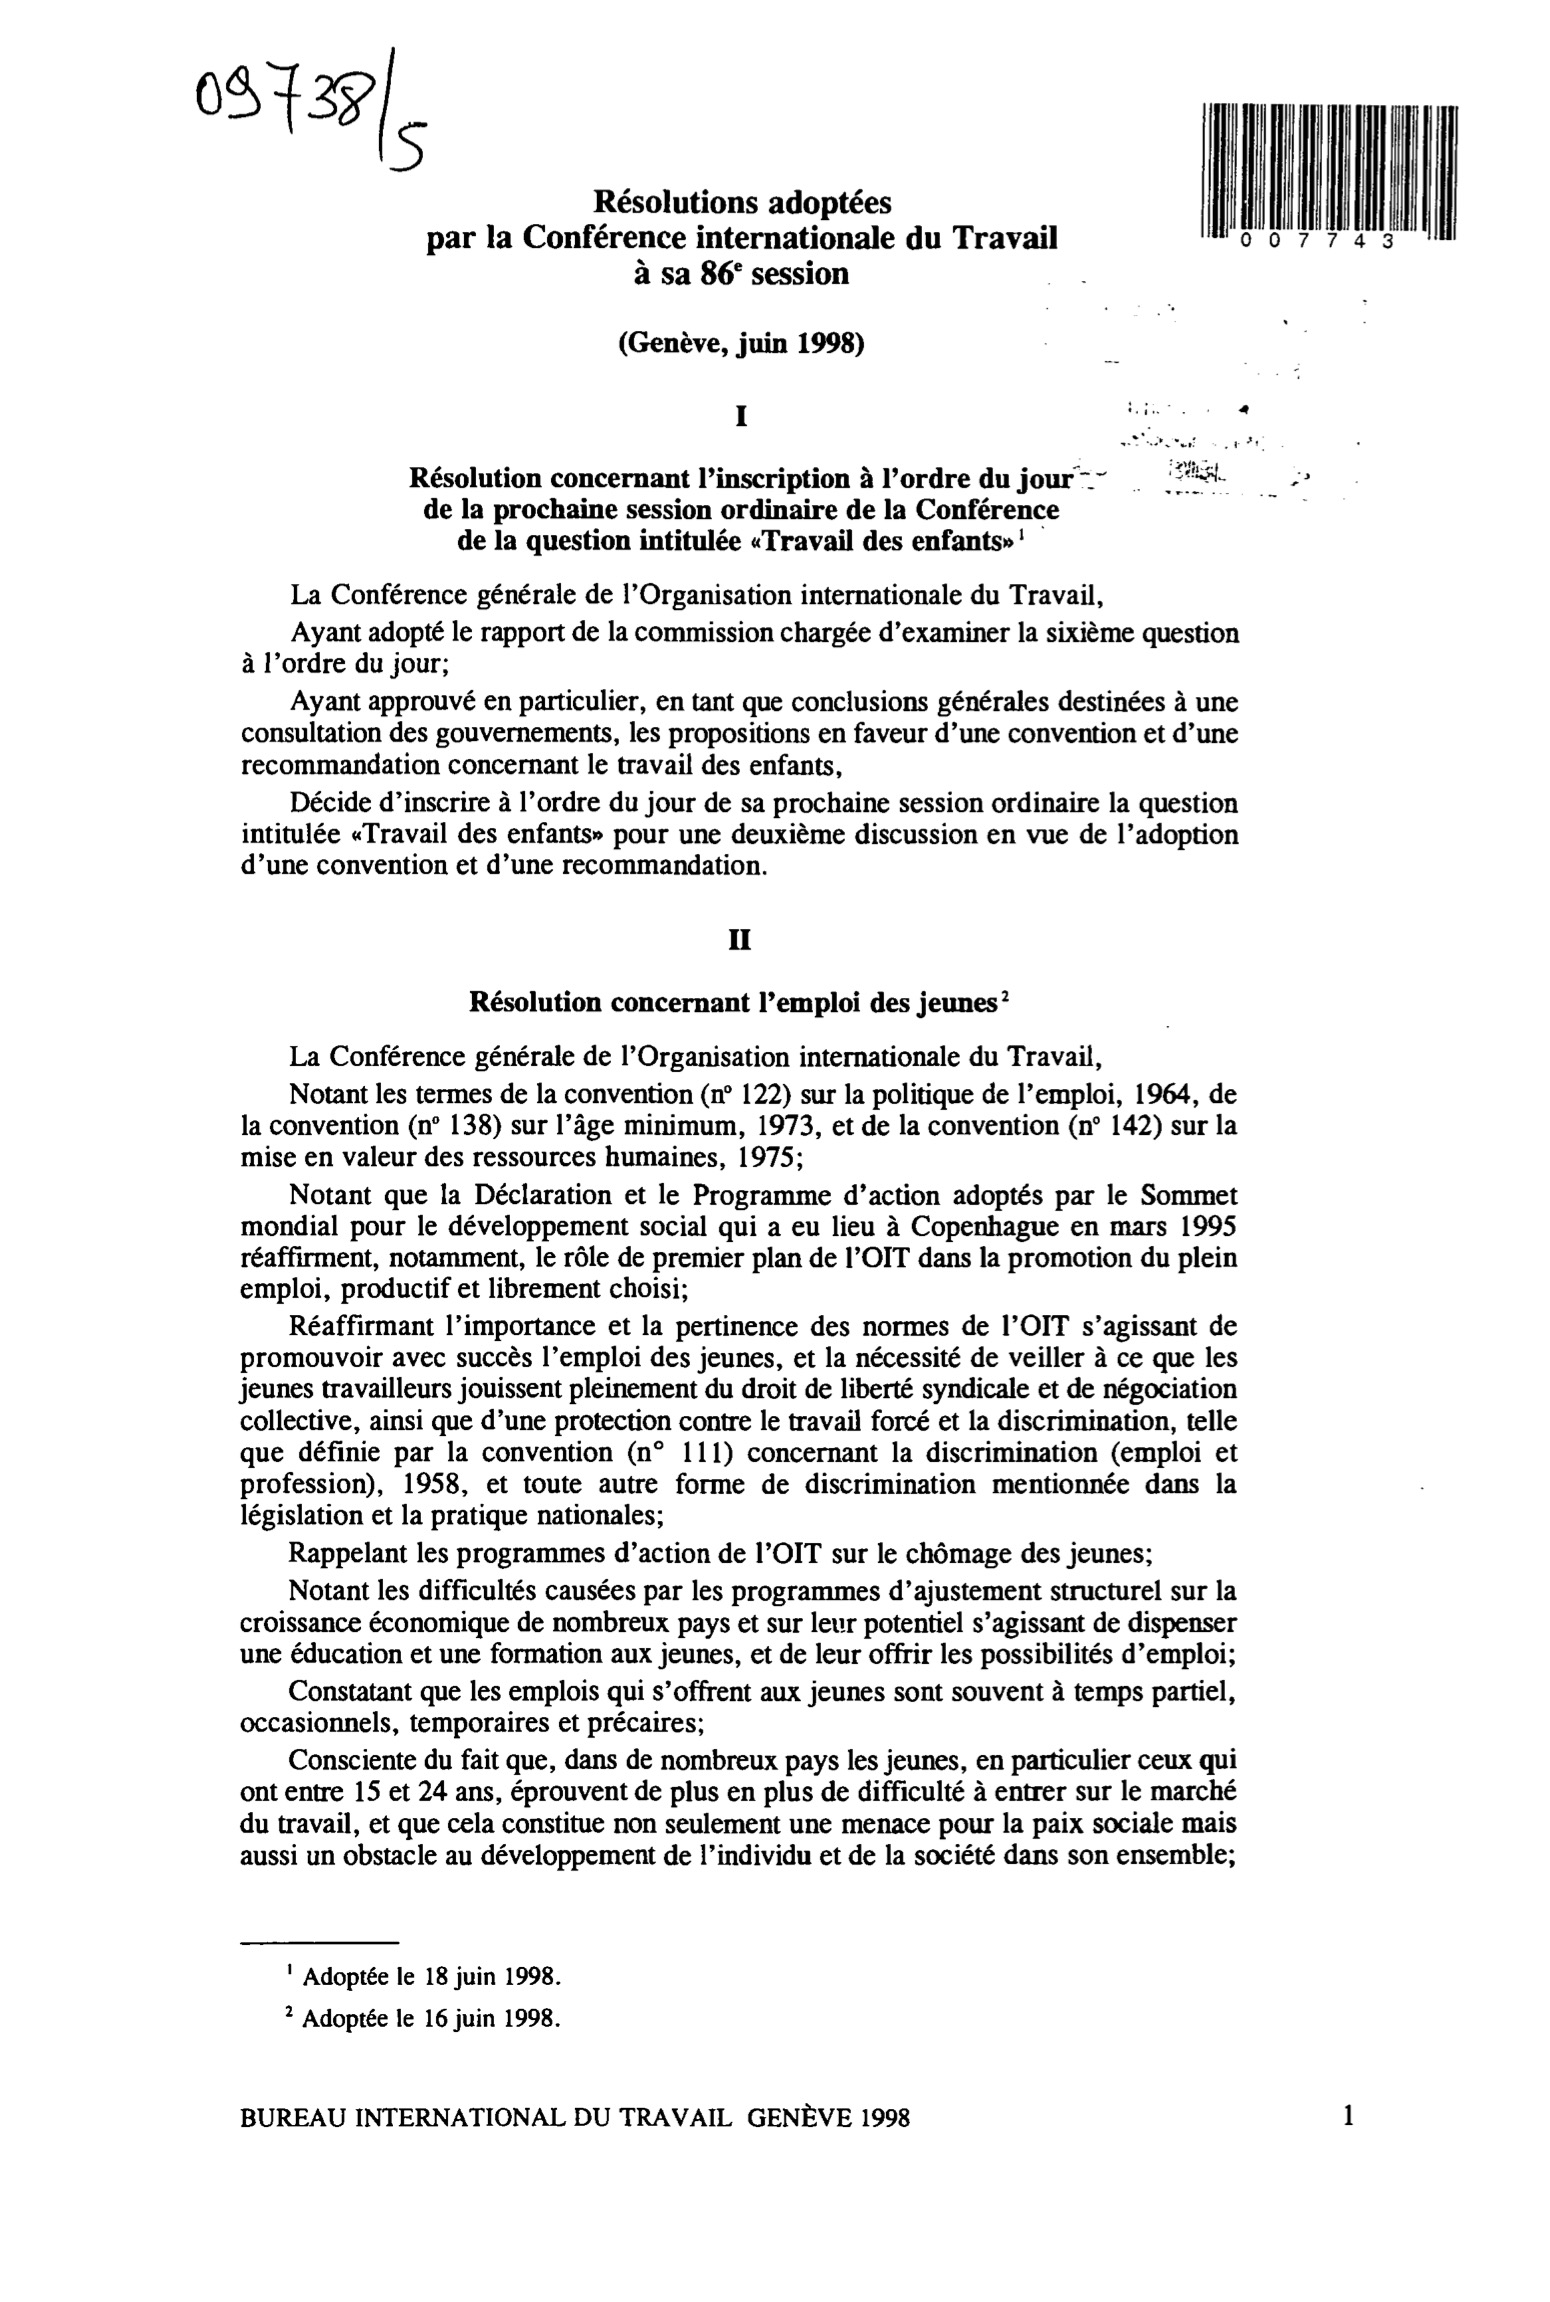MainZone-Date: (601, 320, 873, 371)
MainZone-Head: (412, 175, 1068, 297), (398, 457, 1095, 561), (460, 979, 1018, 1026), (720, 918, 759, 964), (723, 398, 759, 436)
MainZone-P: (231, 1309, 1247, 1531), (226, 1743, 1249, 1882), (226, 1175, 1246, 1306), (226, 784, 1248, 890), (223, 684, 1244, 783), (229, 1077, 1248, 1175), (231, 1575, 1243, 1673), (225, 615, 1243, 683), (229, 1673, 1247, 1741), (229, 1534, 1218, 1573), (245, 574, 1120, 616), (236, 1036, 1111, 1078)
MarginTextZone-ManuscriptAddendum: (169, 26, 449, 184)
MarginTextZone-Notes: (266, 1996, 574, 2042), (267, 1953, 575, 1997)
StampZone: (227, 2085, 927, 2149)
TitlePageZone: (1330, 2091, 1364, 2129)
